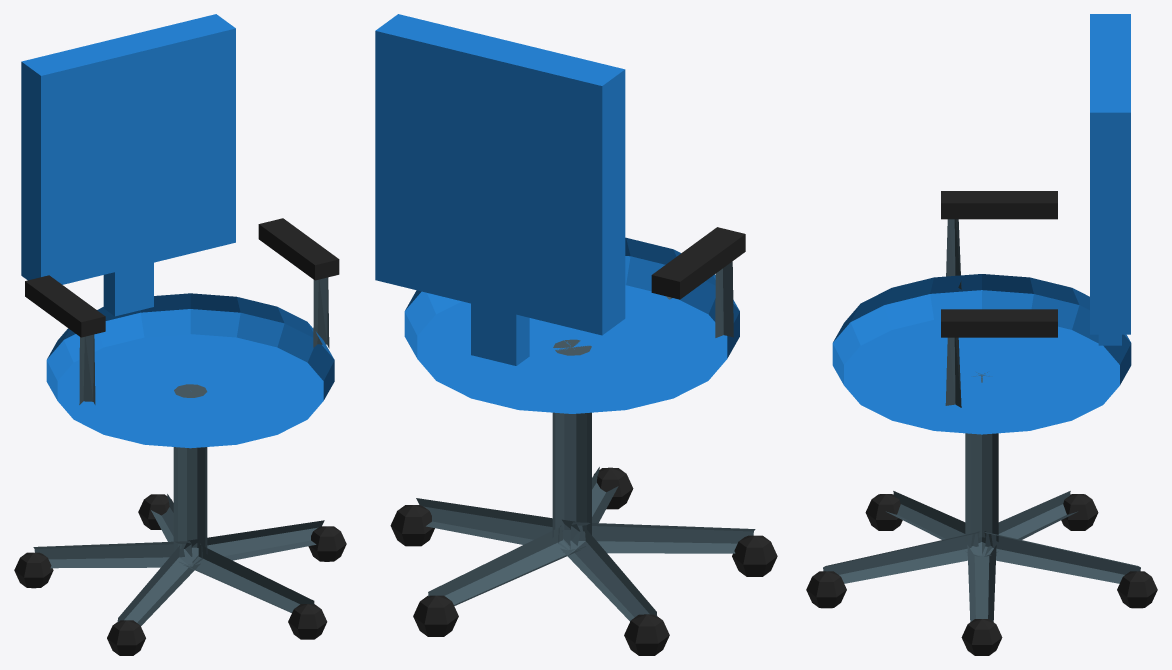
File: kontorsstol.glb
The picture shows the model from 3 angles, left to right: view 1: azimuth 30°, elevation 25°; view 2: azimuth 150°, elevation 25°; view 3: azimuth 270°, elevation 25°; orthographic projection. The views are drawn at different scales.
Parts seen in each view (by area): view 1: kontorsstol; view 2: kontorsstol; view 3: kontorsstol.
Boxes of the visible parts, box(x1,y1,x2,y2) form: kontorsstol: box(14, 14, 346, 655); kontorsstol: box(375, 14, 777, 655); kontorsstol: box(806, 14, 1157, 655).
Bounding box in the file's own units: 0.5753 × 0.99 × 0.6026.
